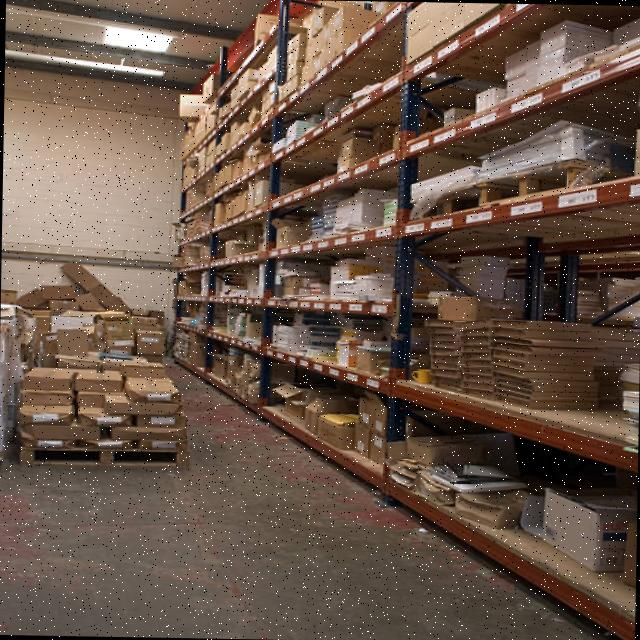Wooden-Pallets: (11, 440, 202, 477), (466, 157, 598, 210), (409, 186, 484, 229)
